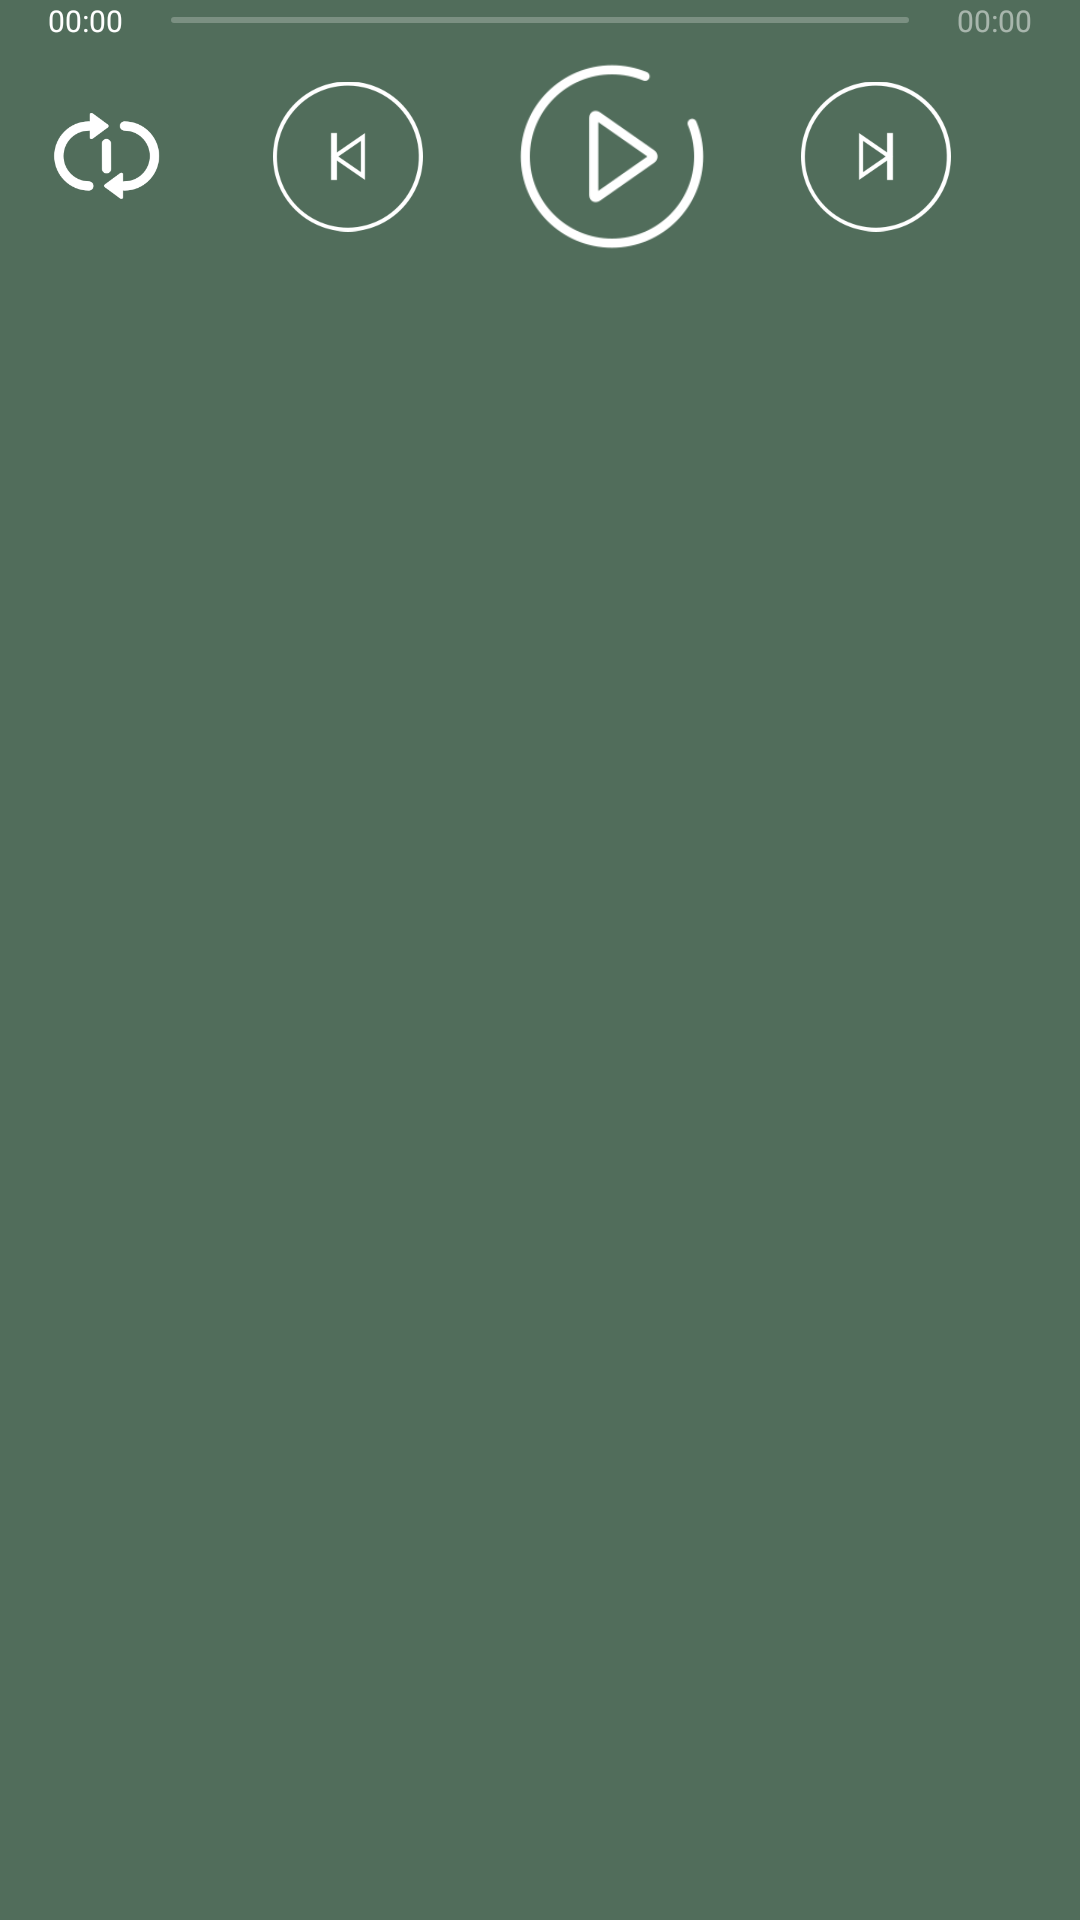

Screen size 1080px x 1920px. Icon name, then its center in pixels as (x=x, y=y):
play pause: (x=612, y=156)
play style: (x=106, y=156)
shangyishou: (x=348, y=157)
xiayishou: (x=876, y=157)
